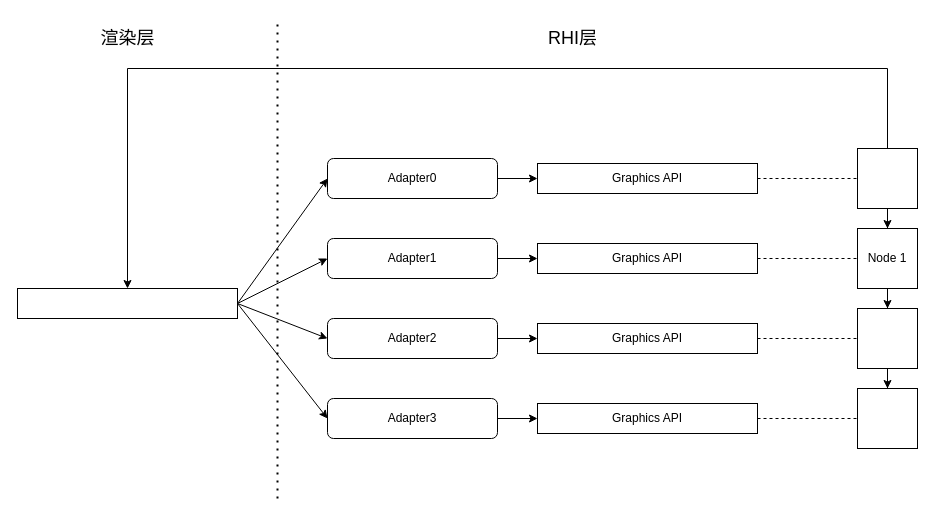
The diagram is 935 pixels wide and 517 high, and some of its shapes have lost their labels. Each missing label, with the box of its shape:
Node 0: (856, 148, 918, 208)
Node 2: (856, 308, 918, 368)
Node 3: (856, 388, 918, 448)
RHI Create Resource Command: (16, 288, 238, 318)
